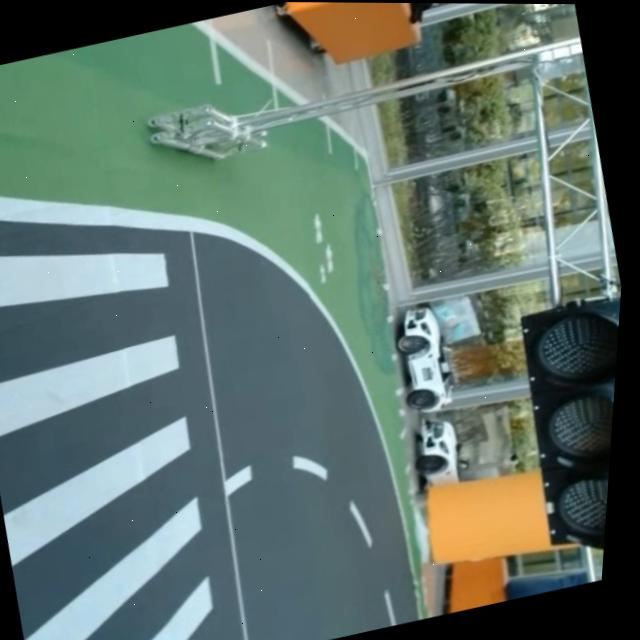traffic-light: (497, 291, 621, 566)
